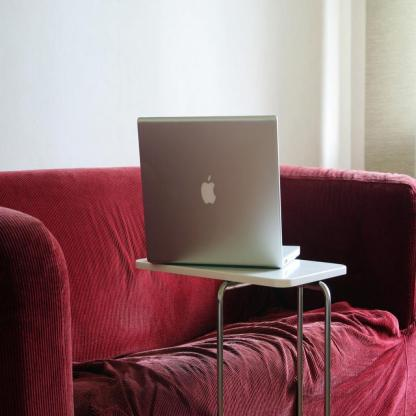board: (138, 113, 299, 291)
